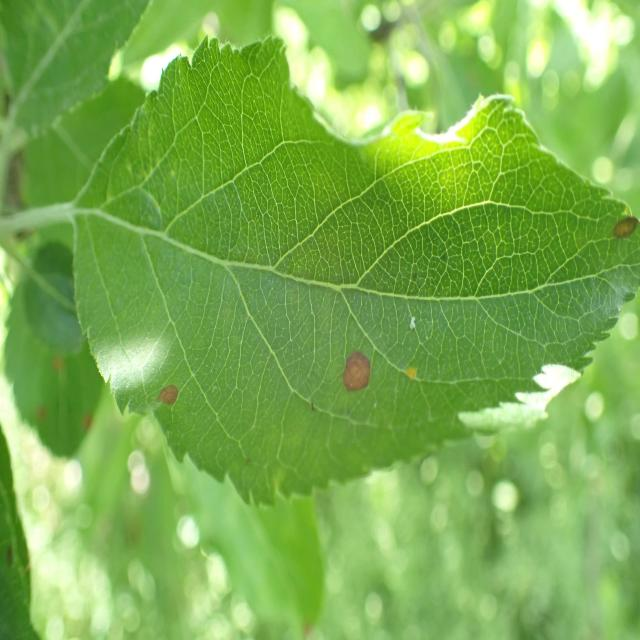Black Rot: (339, 330, 384, 430), (584, 196, 640, 252), (152, 363, 185, 439)
